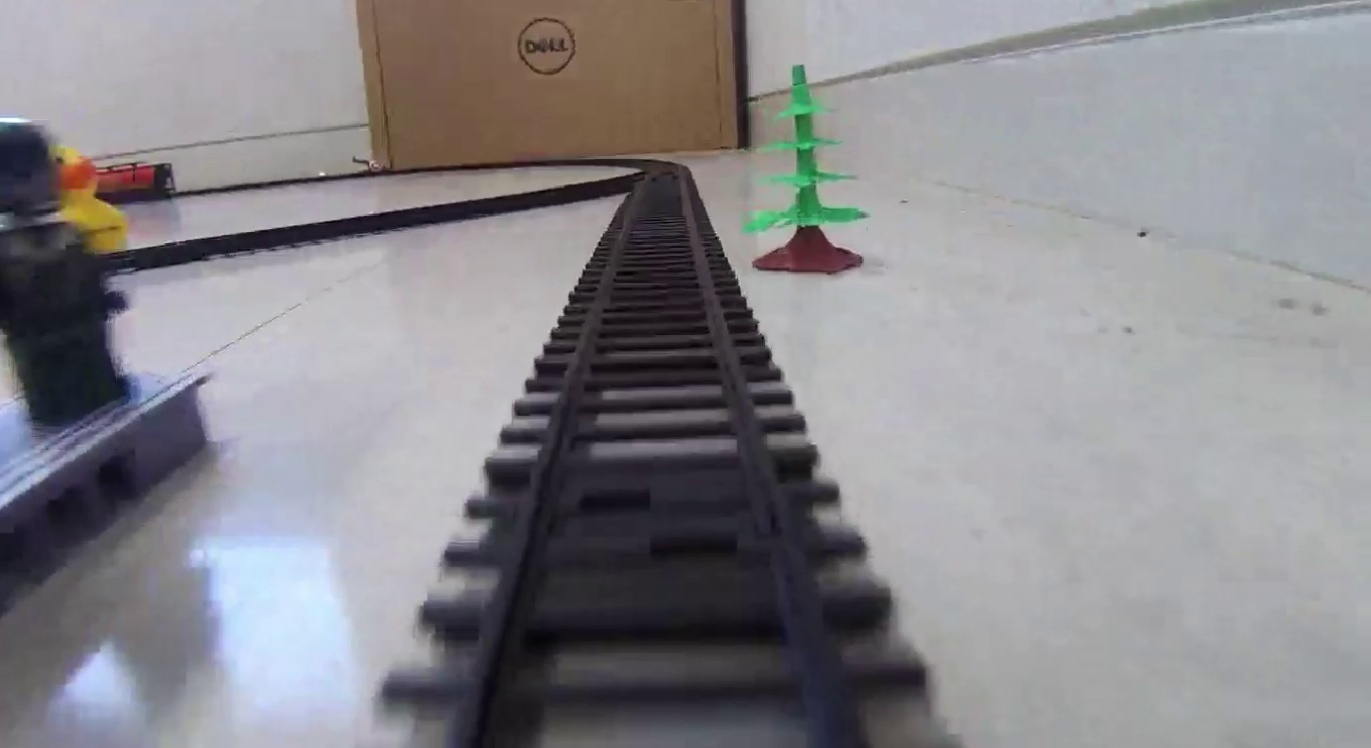tree: (742, 64, 872, 276)
